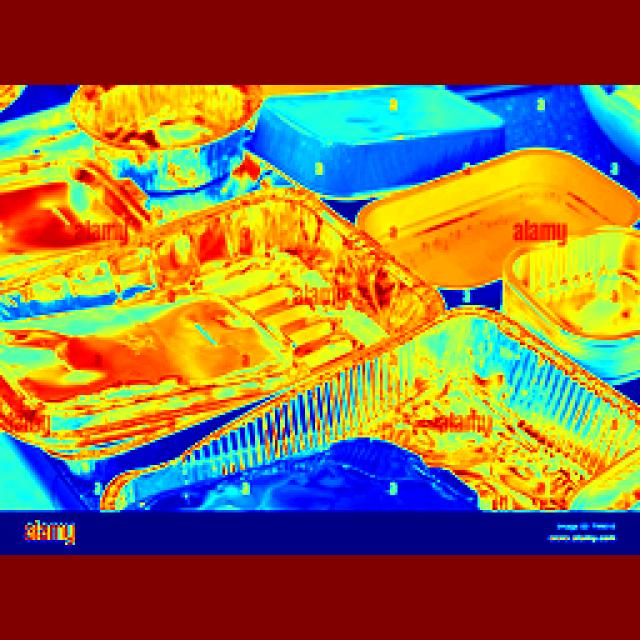Aluminium Food Cans: (1, 218, 383, 412), (212, 347, 610, 523), (330, 129, 630, 298), (74, 77, 256, 182), (500, 234, 640, 351)
